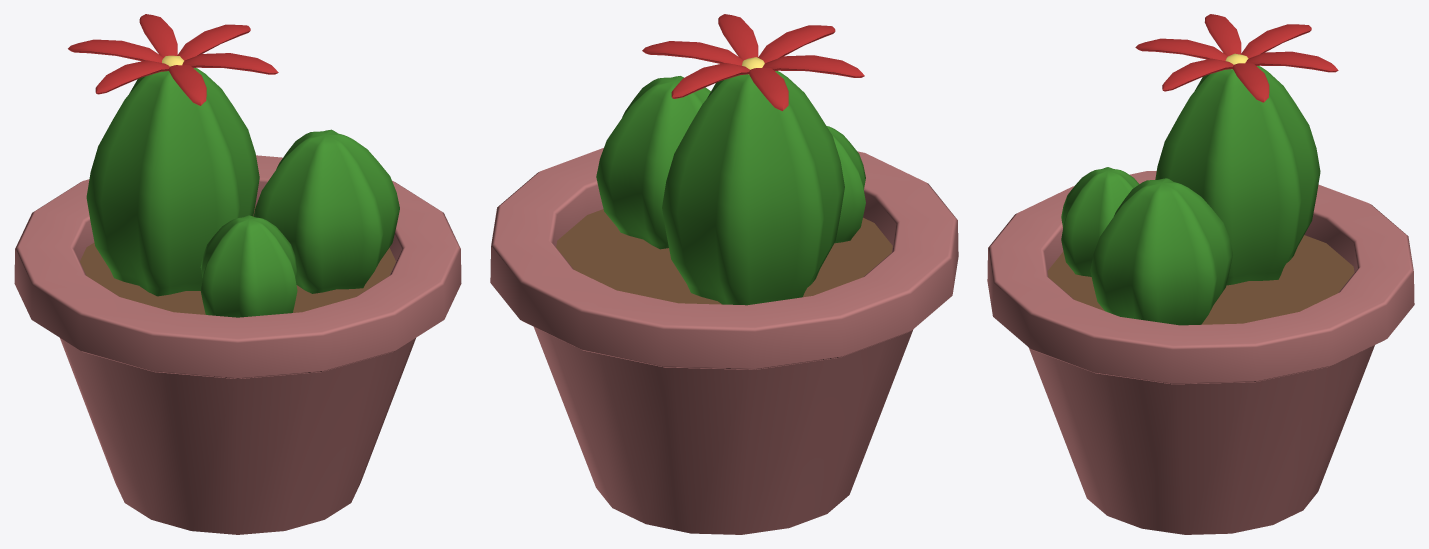
File: Cactus_4.glb
3 renders of one model, left to right at view 1: azimuth 30°, elevation 25°; view 2: azimuth 150°, elevation 25°; view 3: azimuth 270°, elevation 25°, orthographic. The views are drawn at different scales.
Visible parts, largest first — view 1: Cactus_4; view 2: Cactus_4; view 3: Cactus_4.
Part boxes in pixels (x1=…): Cactus_4: x1=14, y1=14, x2=461, y2=534; Cactus_4: x1=490, y1=14, x2=958, y2=534; Cactus_4: x1=987, y1=14, x2=1414, y2=534.
Bounding box in the file's own units: 0.2022 × 0.2181 × 0.2022.
1 material, 1 textured.
